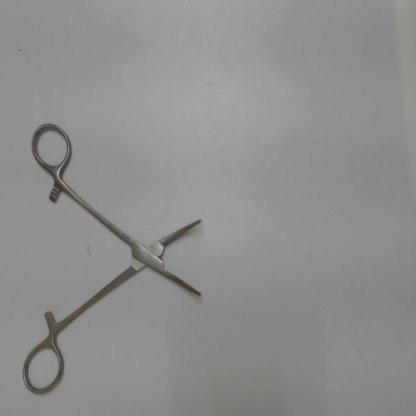Crile Artery Forceps: (19, 115, 210, 399)
